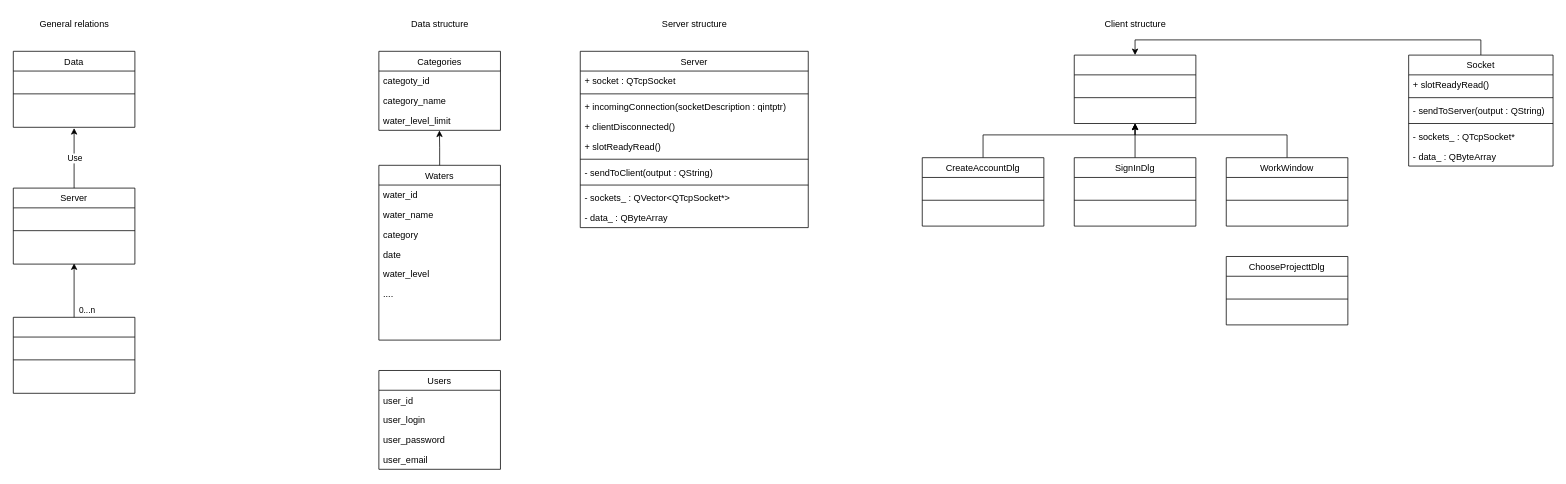
This 1566x484 diagram has some shape labels left out. The shapes that lost their labels are listed below. From the top down, each one's centre as x and y in pixels, then its label:
point 1135,89: MainWindow
point 74,355: Client
